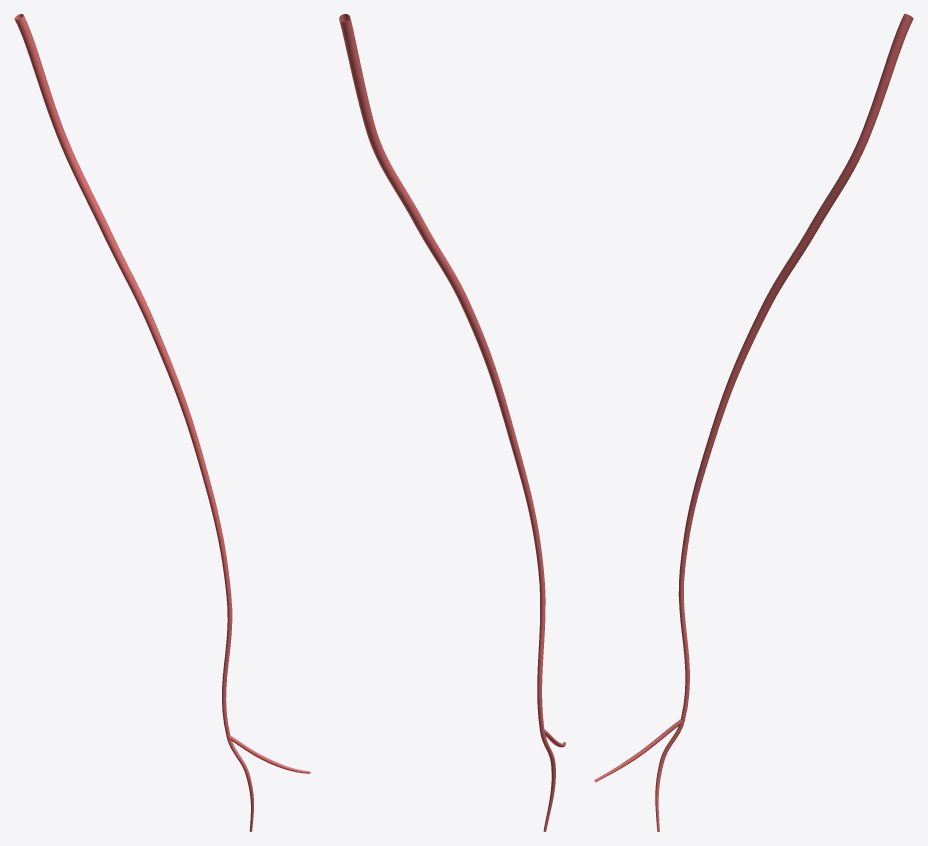
Rendered from Lateral_thoracic_artery.r.001_BezierCurve.197.glb.
3 renders of one model, left to right at view 1: azimuth 90°, elevation 25°; view 2: azimuth 150°, elevation 25°; view 3: azimuth 270°, elevation 25°, orthographic. The views are drawn at different scales.
Visible parts, largest first — view 1: Lateral_thoracic_artery.r.001_BezierCurve.197; view 2: Lateral_thoracic_artery.r.001_BezierCurve.197; view 3: Lateral_thoracic_artery.r.001_BezierCurve.197.
Part boxes in pixels (x1,y1,x2,y2): Lateral_thoracic_artery.r.001_BezierCurve.197: (14, 14, 310, 831); Lateral_thoracic_artery.r.001_BezierCurve.197: (339, 14, 565, 831); Lateral_thoracic_artery.r.001_BezierCurve.197: (594, 14, 913, 831).
Size of the model in its own units: 0.0216 by 0.2138 by 0.0729.
